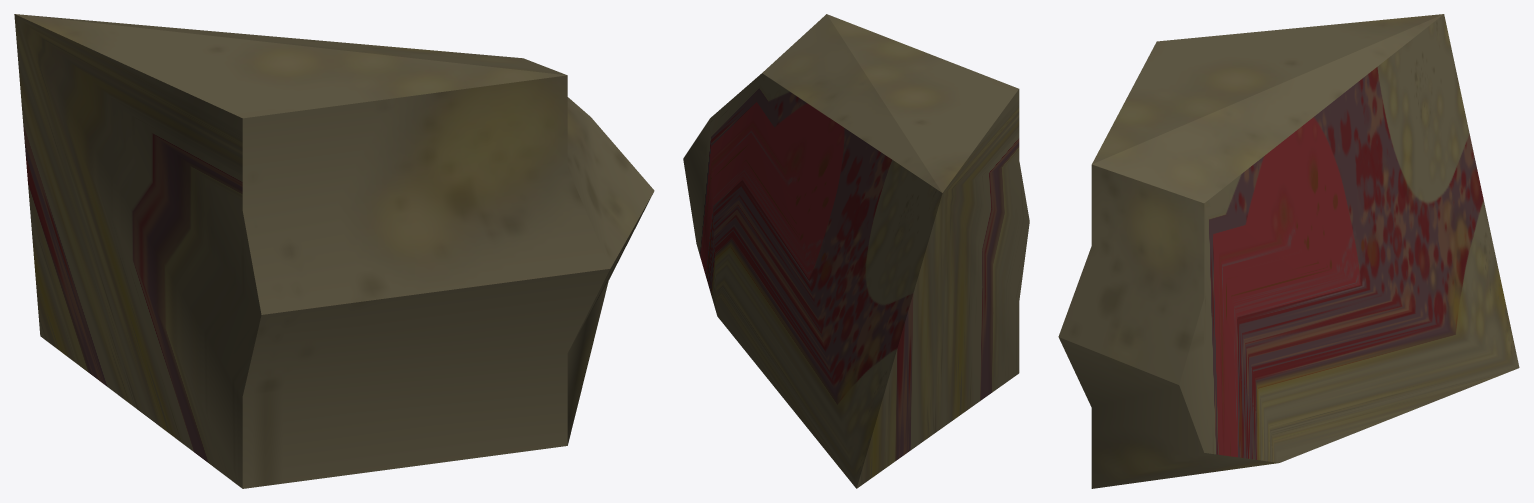
Rendered from ishi_02_10_5.fbx.
The picture shows the model from 3 angles, left to right: view 1: azimuth 30°, elevation 25°; view 2: azimuth 150°, elevation 25°; view 3: azimuth 270°, elevation 25°; orthographic projection. The views are drawn at different scales.
Visible parts, largest first — view 1: polySurface36; view 2: polySurface36; view 3: polySurface36.
Part boxes in pixels (x1,y1,x2,y2): polySurface36: (14, 14, 654, 488); polySurface36: (683, 14, 1029, 488); polySurface36: (1058, 14, 1519, 488).
Size of the model in its own units: 7.09 by 5.14 by 6.62.
Materials: 1 (1 with a texture image).
